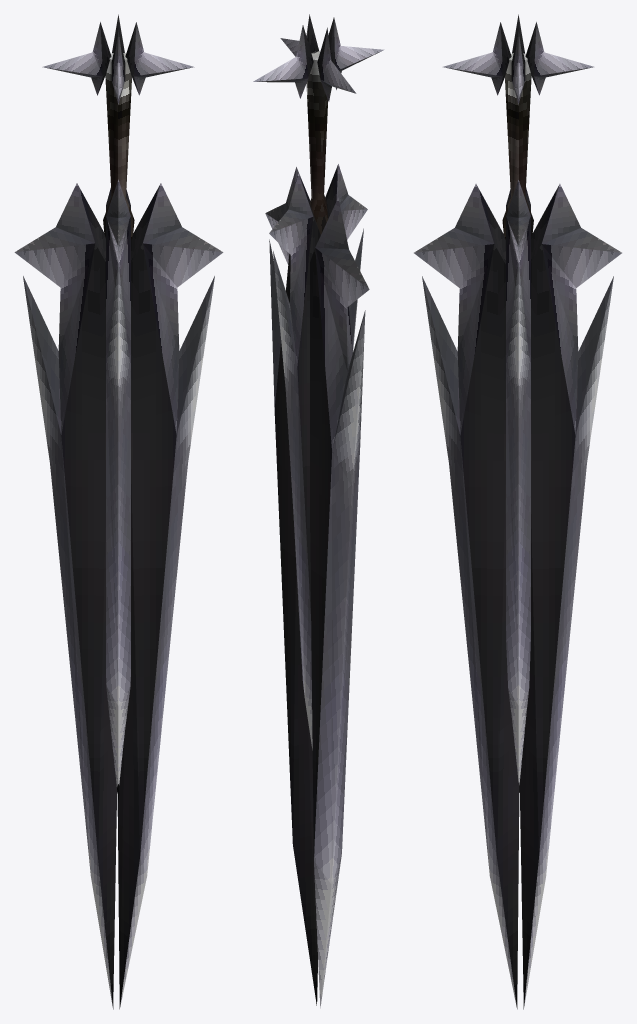
The model's file is Sword17.glb.
The picture shows the model from 3 angles, left to right: view 1: azimuth 90°, elevation 25°; view 2: azimuth 210°, elevation 25°; view 3: azimuth 270°, elevation 25°; orthographic projection.
Visible parts, largest first — view 1: model_Sword17; view 2: model_Sword17; view 3: model_Sword17.
Boxes of the visible parts, box(x1,y1,x2,y2) form: model_Sword17: box(14, 14, 223, 1009); model_Sword17: box(253, 14, 384, 1008); model_Sword17: box(414, 14, 621, 1009).
Size of the model in its own units: 0.3391 by 2.42 by 0.4635.
1 material, 1 textured.
